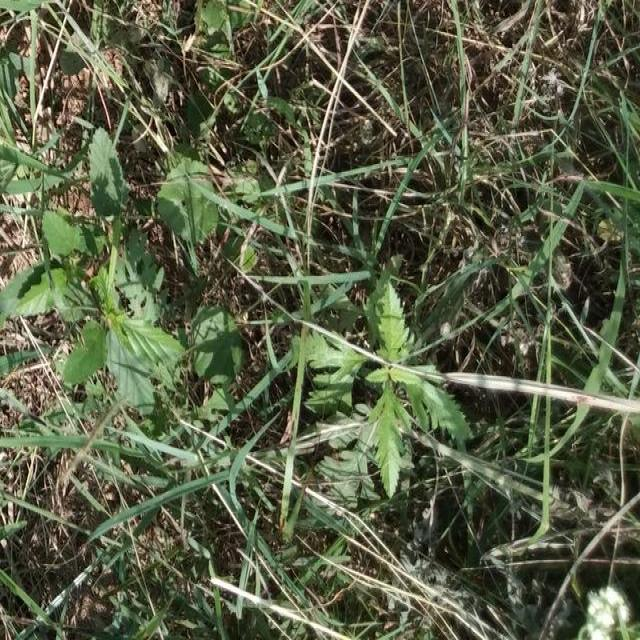weed: (22, 106, 214, 463), (306, 280, 496, 526)
